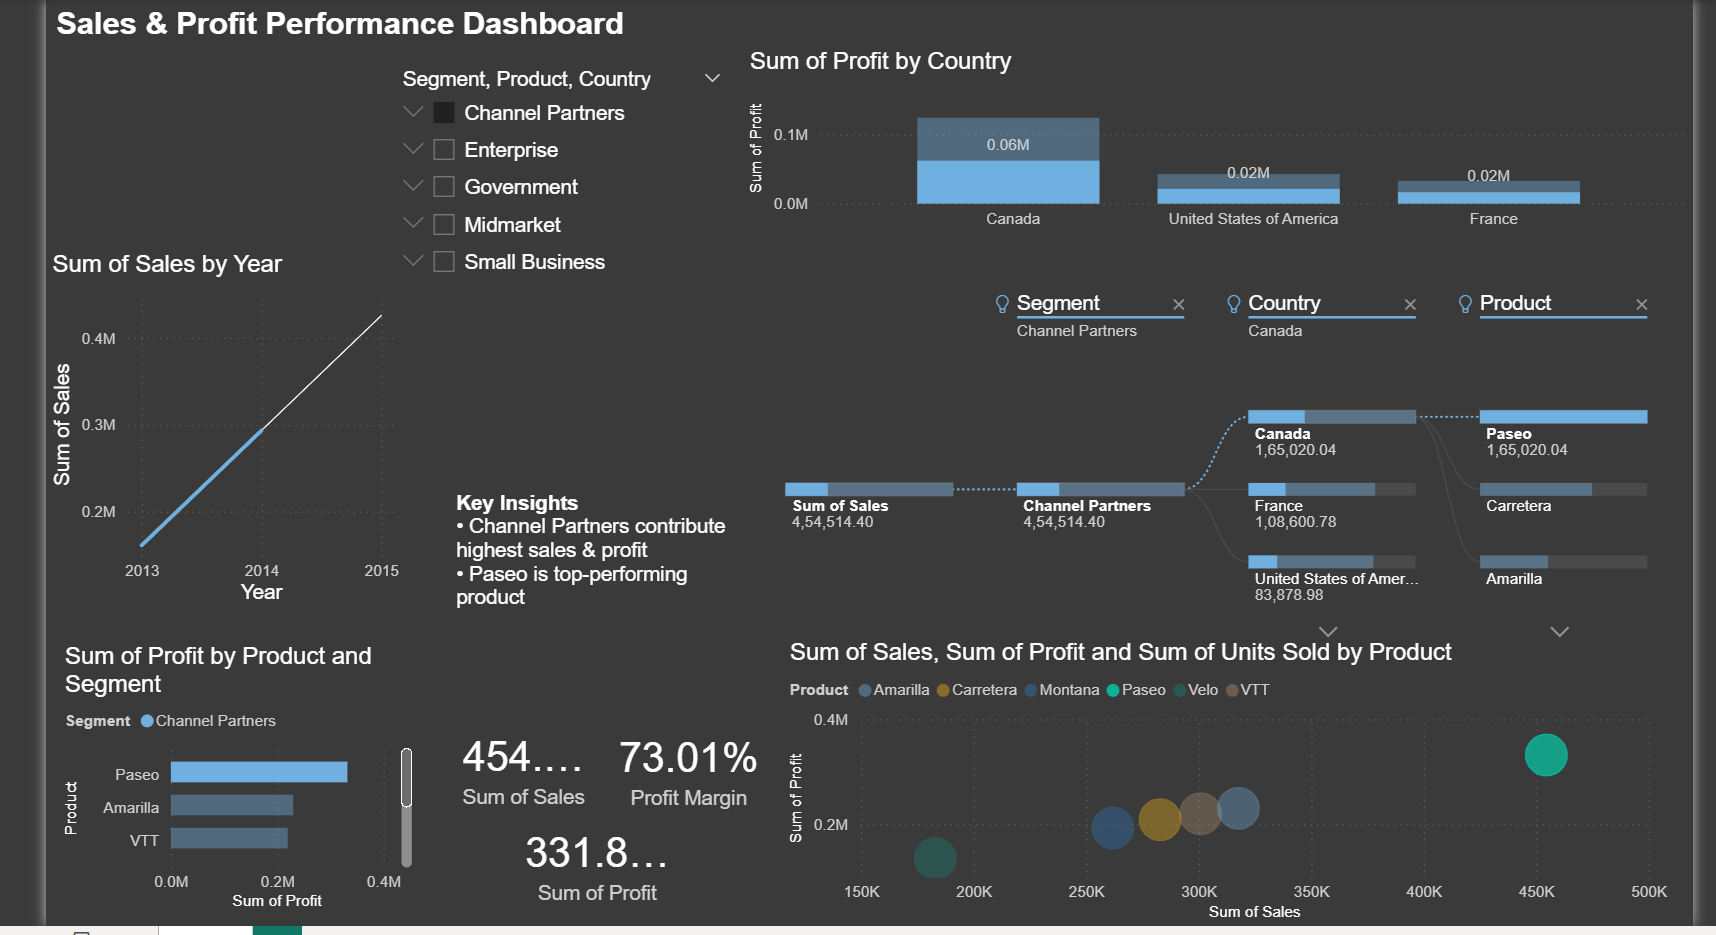

What the dashboard file says about the page in this screenshot:
{"tool":"powerbi","page":{"name":"Page 1","canvas":[1280,720],"ordinal":0},"visuals":[{"type":"textbox","box":[2.7,0,455.6,37],"z":0},{"type":"lineChart","fields":{"Category":["financials.Date.Variation.Date Hierarchy.Year","financials.Date.Variation.Date Hierarchy.Quarter","financials.Date.Variation.Date Hierarchy.Month","financials.Date.Variation.Date Hierarchy.Day"],"Y":["Sum(financials.Sales)"]},"box":[0,194.9,279.9,279.9],"z":1000},{"type":"clusteredBarChart","fields":{"Category":["financials.Product"],"Y":["Sum(financials.Profit)"],"Series":["financials.Segment"]},"box":[9.6,499.5,279.9,212.7],"z":2000},{"type":"slicer","fields":{"Values":["financials.Segment","financials.Product","financials.Country"]},"box":[264.8,48,273.1,179.8],"z":3000},{"type":"card","fields":{"Values":["Sum(financials.Sales)"]},"box":[314.2,557.1,115.3,79.6],"z":4000},{"type":"card","fields":{"Values":["Sum(financials.Profit)"]},"box":[366.4,636.7,124.9,68.6],"z":5000},{"type":"decompositionTreeVisual","fields":{"Analyze":["Sum(financials.Sales)"],"ExplainBy":["financials.Segment","financials.Country","financials.Product"]},"box":[544.8,211.3,735.5,304.6],"z":6000},{"type":"card","fields":{"Values":["Orders.Profit Margin1"]},"box":[440.5,550.3,119.4,94.7],"z":7000},{"type":"scatterChart","fields":{"X":["Sum(financials.Sales)"],"Y":["Sum(financials.Profit)"],"Series":["financials.Product"],"Size":["Sum(financials (2).Units Sold)"]},"box":[573.6,496.7,693,223.7],"z":8000},{"type":"columnChart","fields":{"Category":["financials.Country"],"Y":["Sum(financials.Profit)"]},"box":[542,37,738.3,149.6],"z":9000},{"type":"textbox","box":[314.2,377.4,223.7,122.1],"z":10000}]}

Visuals, with their boxes on the page's 1280x720 design canvas (x1, y1, x2, y2). These are canvas units, not pixel positions in the 1716x935 screenshot, which may show the page scaled, cropped or inside an application window:
textbox: locate(3, 0, 458, 37)
lineChart - financials.Date.Variation.Date Hierarchy.Year x financials.Date.Variation.Date Hierarchy.Quarter: locate(0, 195, 280, 475)
clusteredBarChart - financials.Product x Sum(financials.Profit): locate(10, 500, 290, 712)
slicer - financials.Segment x financials.Product: locate(265, 48, 538, 228)
card - Sum(financials.Sales): locate(314, 557, 430, 637)
card - Sum(financials.Profit): locate(366, 637, 491, 705)
decompositionTreeVisual - Sum(financials.Sales) x financials.Segment: locate(545, 211, 1280, 516)
card - Orders.Profit Margin1: locate(440, 550, 560, 645)
scatterChart - Sum(financials.Sales) x Sum(financials.Profit): locate(574, 497, 1267, 720)
columnChart - financials.Country x Sum(financials.Profit): locate(542, 37, 1280, 187)
textbox: locate(314, 377, 538, 500)
